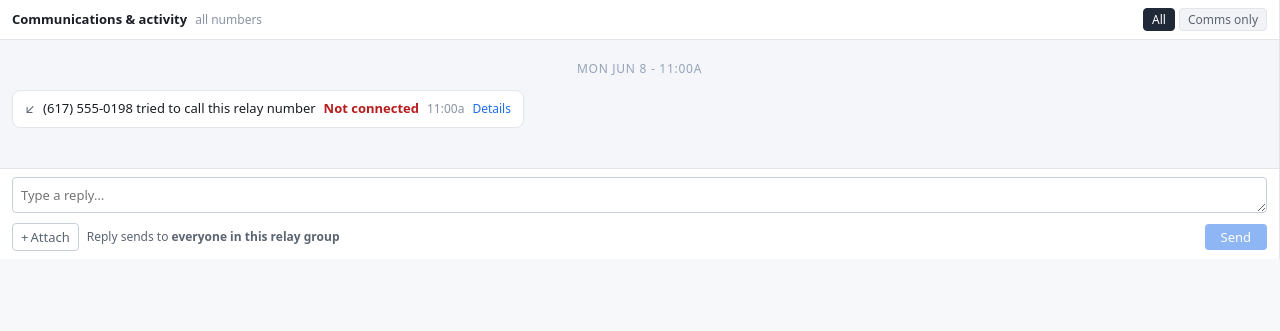
Test: Timeline call cards - direction › renders an unmatched external number and explicitly reports no linked contact
Click the button with aria-label "Details for (617) 555-0198 tried to call this relay number" at (492, 109), box [472,100,511,117]
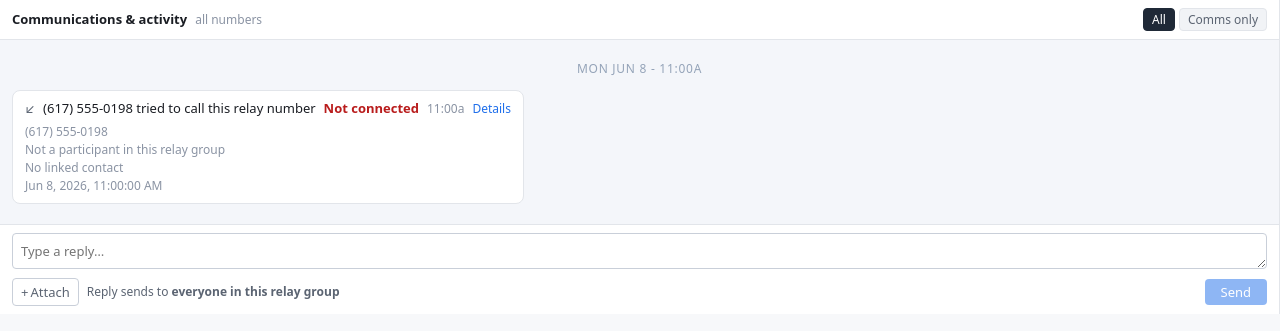
Expected: the text "No linked contact" is shown, [25,158,123,176]
